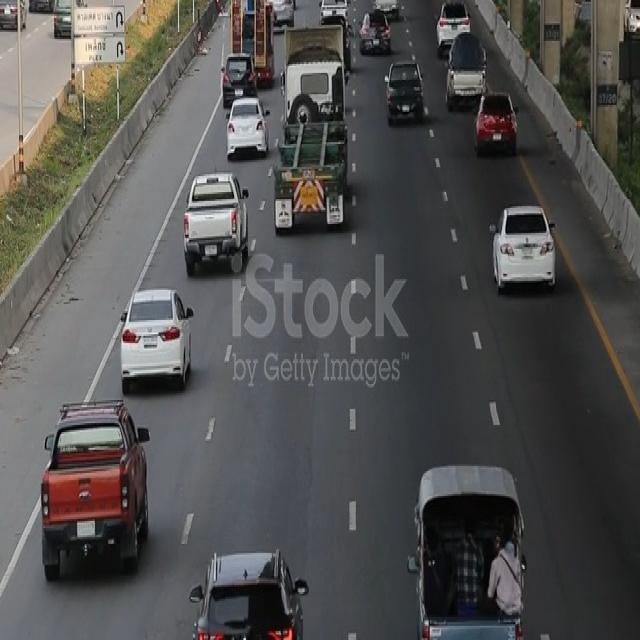Car: (190, 549, 312, 640), (117, 284, 195, 388), (492, 203, 560, 294), (224, 94, 271, 161), (475, 91, 517, 152), (388, 56, 426, 120), (220, 53, 260, 103), (434, 0, 469, 52), (360, 13, 394, 55), (315, 0, 353, 29), (265, 0, 299, 32), (0, 0, 31, 31), (50, 0, 74, 39)
Truck: (413, 456, 528, 640), (36, 396, 152, 577), (274, 18, 354, 232), (184, 170, 252, 270), (230, 0, 274, 89), (448, 29, 486, 105)
